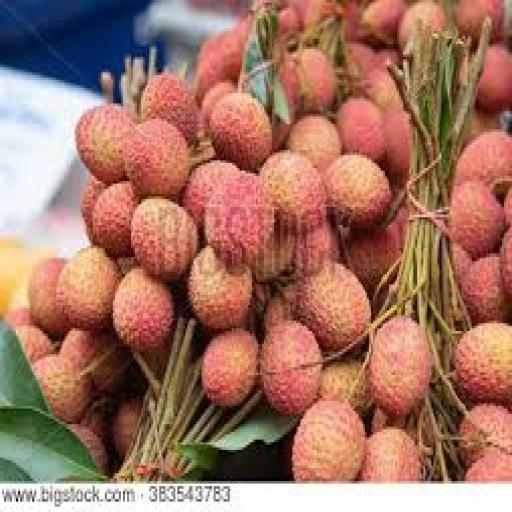lychee: (204, 174, 276, 266), (369, 316, 433, 416), (297, 264, 370, 351), (261, 321, 322, 416), (293, 401, 366, 480), (261, 150, 326, 232), (132, 197, 197, 279), (188, 246, 251, 330), (57, 246, 120, 330), (123, 119, 189, 199), (113, 269, 173, 351), (323, 156, 391, 227), (75, 104, 135, 183), (210, 94, 272, 170), (202, 329, 260, 408), (142, 73, 199, 142), (33, 355, 92, 421), (93, 182, 139, 256), (287, 114, 342, 173), (337, 99, 387, 162), (29, 257, 68, 336)
